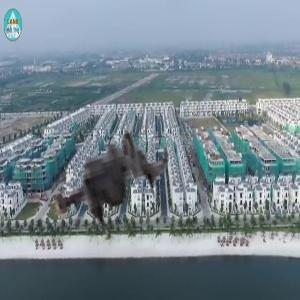drone: (31, 114, 187, 270)
